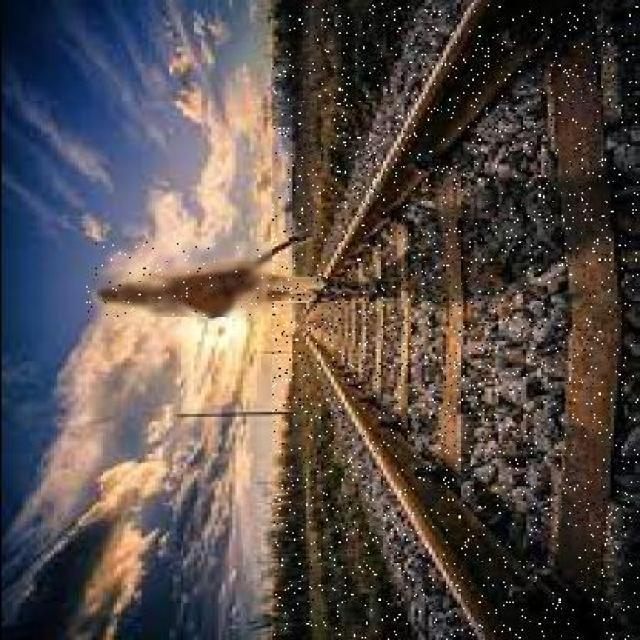danger: (84, 241, 384, 317)
rail: (272, 3, 637, 640)
